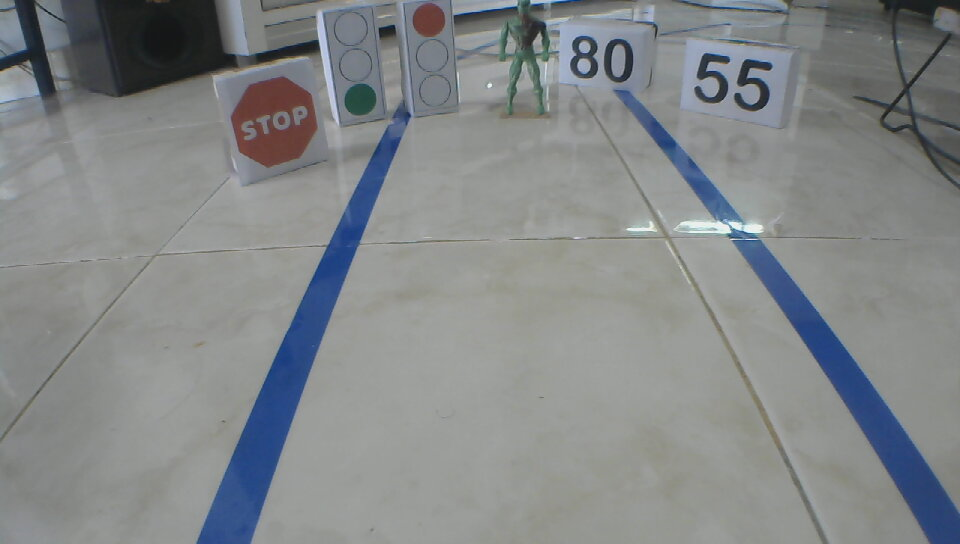Green Light: (332, 10, 377, 117)
Kecepatan 55: (692, 51, 775, 111)
Person: (496, 1, 553, 118)
Red Light: (412, 3, 452, 109)
Speed 80: (570, 34, 635, 84)
Stop: (231, 76, 319, 169)
